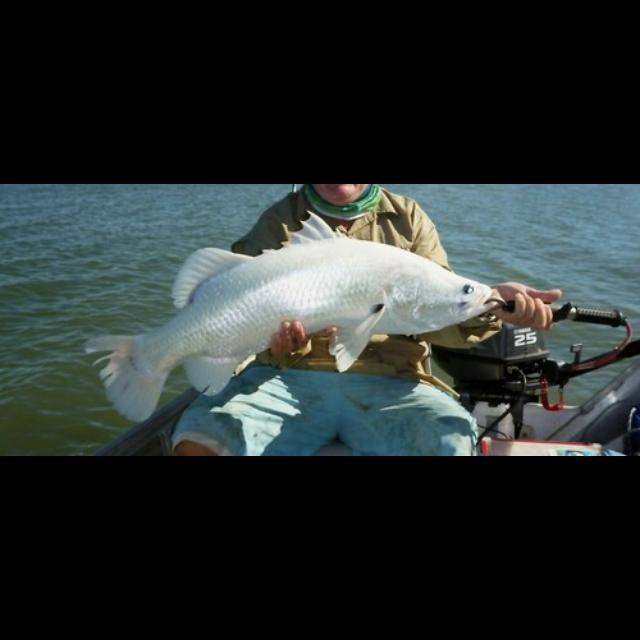Seabass: (80, 210, 498, 424)
